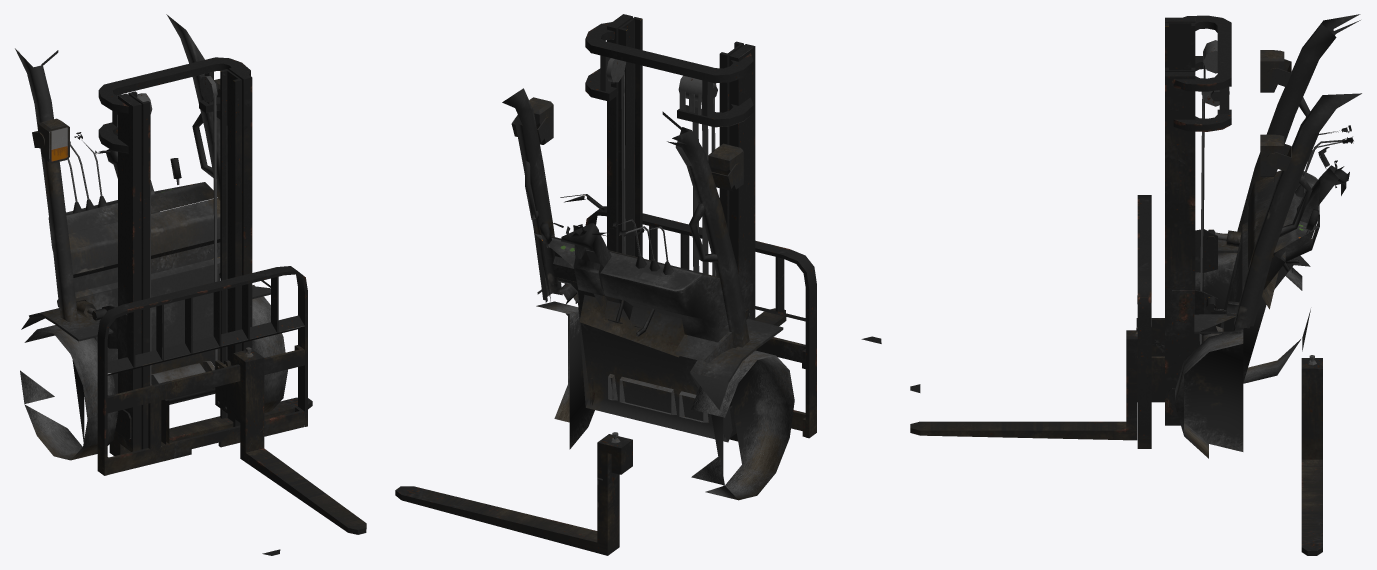
File: fork2.dae
3 views of the same model, side by side, from view 1: azimuth 30°, elevation 25°; view 2: azimuth 150°, elevation 25°; view 3: azimuth 270°, elevation 25° (orthographic). The views are drawn at different scales.
Parts seen in each view (by area): view 1: Loader_car, Loader_car_Loader_car_Material_0.001; view 2: Loader_car, Loader_car_Loader_car_Material_0.001; view 3: Loader_car, Loader_car_Loader_car_Material_0.001.
Part boxes in pixels (<box>): Loader_car: <box>15,14,366,555</box>; Loader_car_Loader_car_Material_0.001: <box>109,397,312,455</box>; Loader_car: <box>502,14,881,500</box>; Loader_car_Loader_car_Material_0.001: <box>395,432,632,555</box>; Loader_car: <box>910,14,1361,458</box>; Loader_car_Loader_car_Material_0.001: <box>1301,355,1322,555</box>.
Bounding box in the file's own units: 169 × 224 × 230.
Materials: 1 (1 with a texture image).
